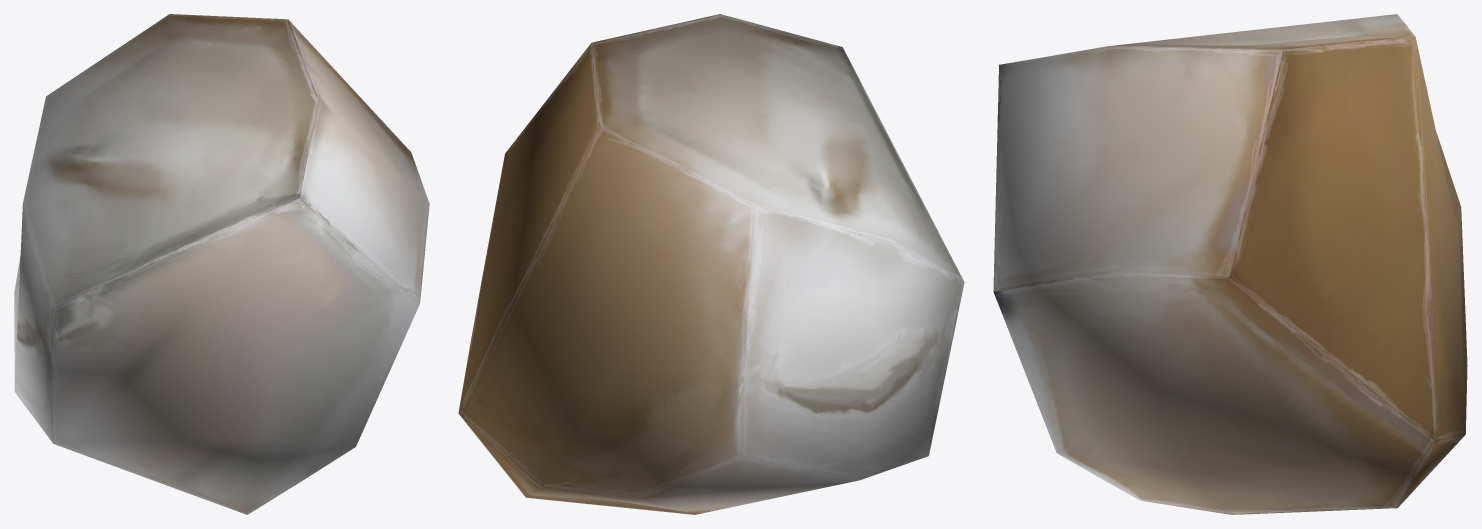
The model's file is rock_1.fbx.
3 views of the same model, side by side, from view 1: azimuth 30°, elevation 25°; view 2: azimuth 150°, elevation 25°; view 3: azimuth 270°, elevation 25° (orthographic). The views are drawn at different scales.
Visible parts, largest first — view 1: rock_1; view 2: rock_1; view 3: rock_1.
Part boxes in pixels (box(x1,y1,x2,y2)): rock_1: box(14, 14, 429, 514); rock_1: box(458, 14, 964, 514); rock_1: box(993, 14, 1467, 514).
Bounding box in the file's own units: 1.9 × 2 × 1.69.
